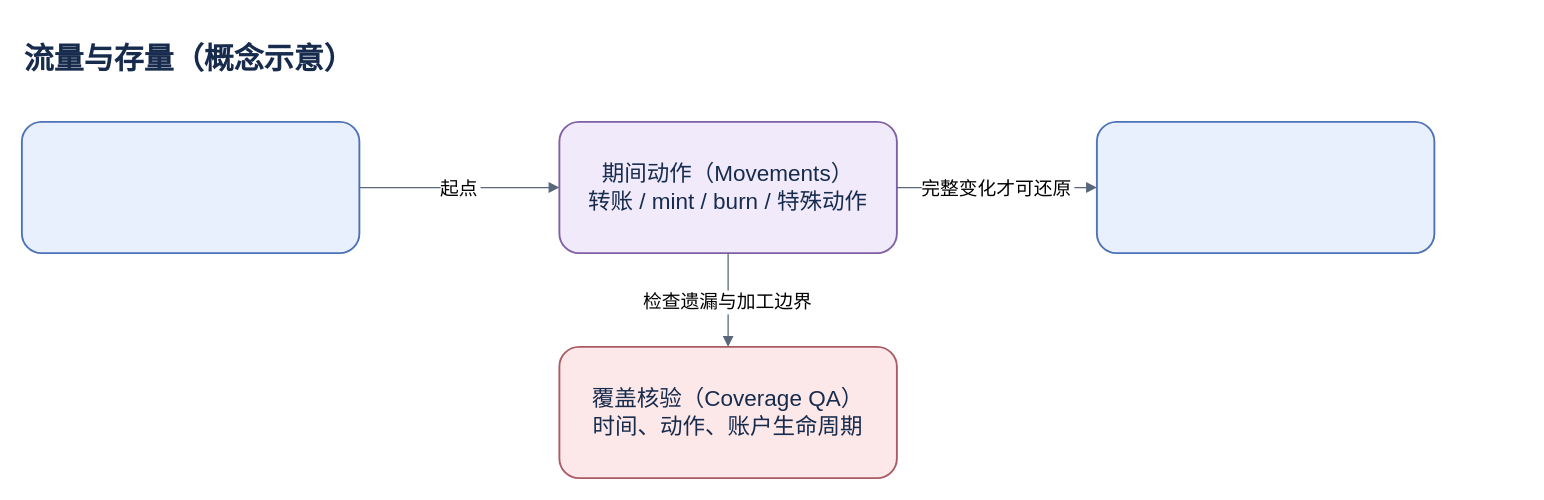
The diagram is 1544 pixels wide and 500 high, and some of its shapes have lost their labels. Here are the shapes that lost their labels. From the top down, the box of each, then its label:
(20, 120, 360, 254): 期初状态（Opening Balance） 指定时点的账户余额
(1095, 120, 1435, 254): 期末状态（Closing Balance） 按完整变化关系计算或读取
